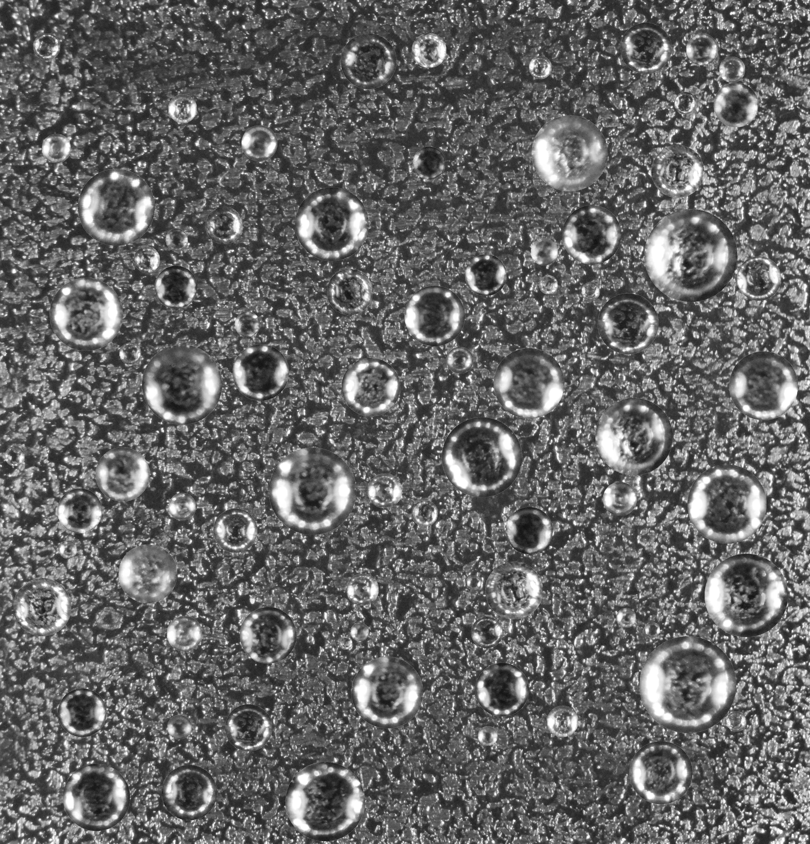Bubble: (639, 636, 736, 733), (644, 209, 737, 301), (268, 447, 356, 534), (704, 553, 788, 637), (441, 417, 521, 497), (142, 344, 221, 424), (687, 464, 766, 543), (285, 762, 364, 841), (77, 168, 154, 245), (595, 398, 672, 475), (531, 115, 607, 191), (295, 187, 368, 260), (49, 277, 122, 350), (351, 656, 423, 728), (493, 348, 564, 418), (729, 351, 798, 420), (62, 764, 129, 831), (629, 741, 692, 804), (597, 293, 658, 354), (404, 285, 464, 346), (118, 544, 177, 603), (341, 357, 400, 416), (562, 205, 621, 264), (13, 578, 71, 636), (485, 561, 542, 619), (239, 607, 296, 663), (232, 344, 288, 400), (340, 33, 396, 88), (161, 765, 216, 820), (95, 447, 149, 501), (475, 663, 528, 716), (651, 145, 704, 197), (620, 22, 671, 73), (57, 688, 106, 737), (225, 704, 272, 751), (505, 507, 552, 554), (326, 268, 372, 314), (713, 82, 758, 127), (57, 488, 102, 533), (736, 256, 781, 300), (213, 508, 257, 552), (154, 265, 197, 308), (465, 254, 506, 295), (205, 206, 242, 244), (241, 125, 277, 161), (166, 616, 202, 651), (367, 473, 402, 508), (411, 33, 446, 67), (412, 146, 445, 179), (603, 482, 636, 515), (686, 33, 718, 65), (346, 573, 378, 605), (471, 616, 502, 648), (547, 705, 578, 737), (41, 133, 70, 162), (168, 94, 196, 122), (168, 493, 195, 520), (446, 346, 473, 373), (530, 238, 557, 265), (33, 33, 60, 59), (411, 500, 437, 526), (719, 56, 745, 82), (133, 246, 159, 272), (234, 311, 260, 336), (167, 715, 191, 739), (674, 91, 696, 114), (119, 342, 141, 364), (165, 228, 187, 250), (529, 56, 551, 78), (726, 711, 746, 731), (4, 446, 24, 466), (616, 608, 636, 627), (478, 726, 497, 745), (539, 275, 557, 294), (581, 282, 600, 300), (350, 622, 368, 641), (58, 540, 76, 558), (644, 622, 659, 637), (466, 575, 480, 589), (339, 636, 352, 649)
